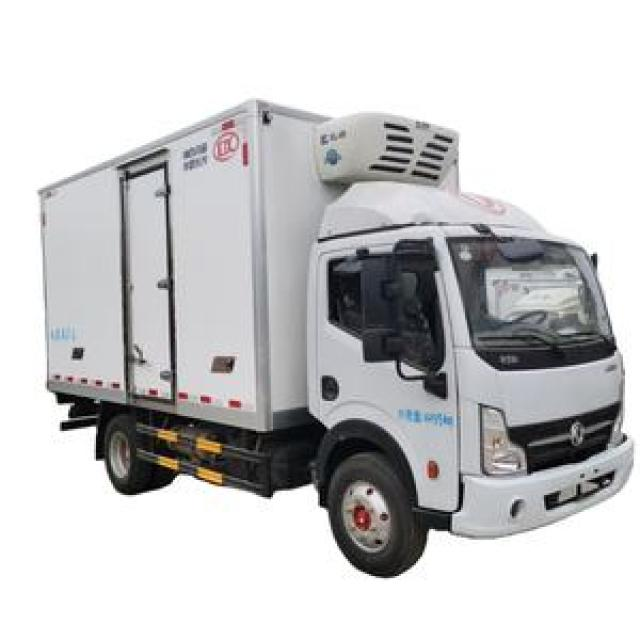truck: (42, 101, 632, 576)
